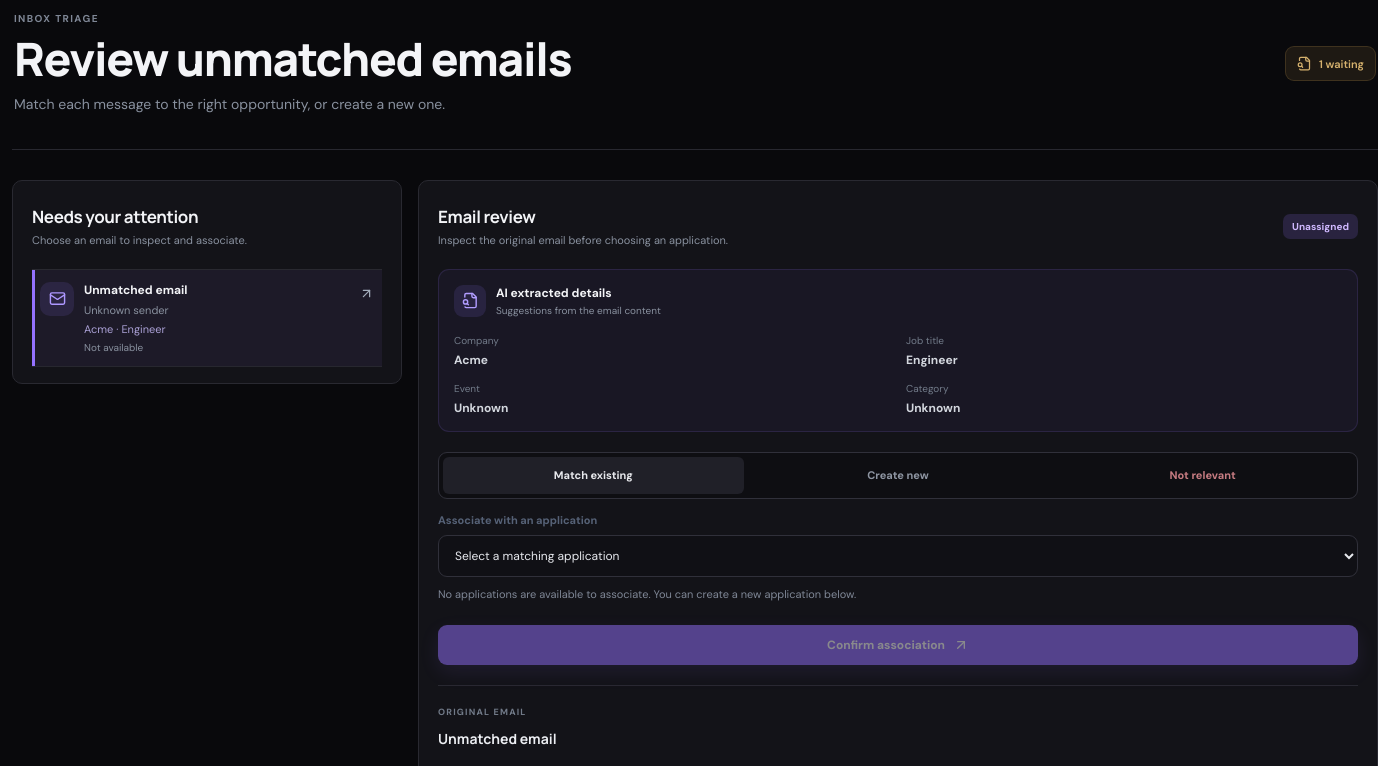
Test: review actions and data refresh › creates an application with corrected details and opens its timeline
The width and height of the screenshot is (1378, 766).
Expected: the button "Unmatched email Unknown sender Acme · Engineer Not available" is shown, x1=32 y1=270 x2=382 y2=367
Click the tab "Create new" at (898, 475), box x1=748 y1=457 x2=1048 y2=494
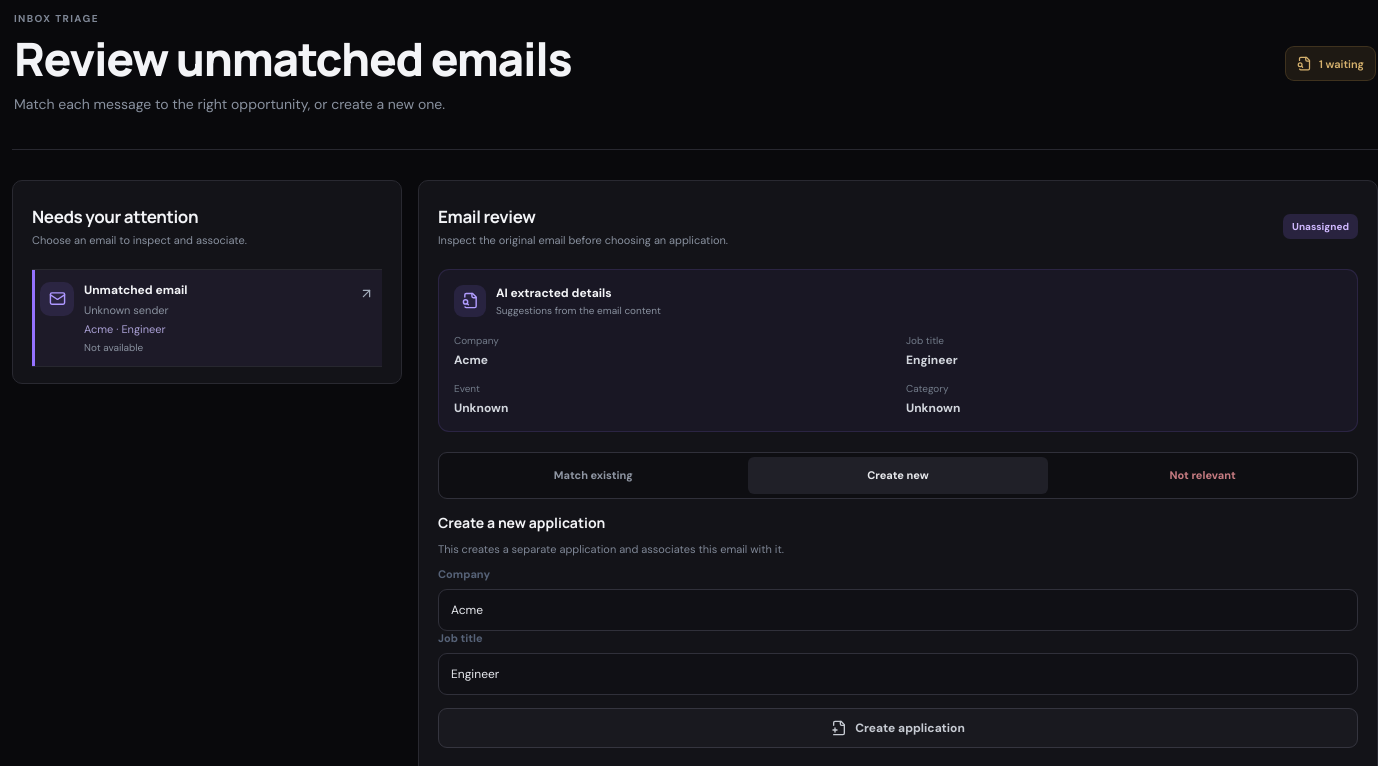
Replace the text in the field labelled "Company" with "New Acme" at (898, 610), box x1=438 y1=589 x2=1358 y2=631
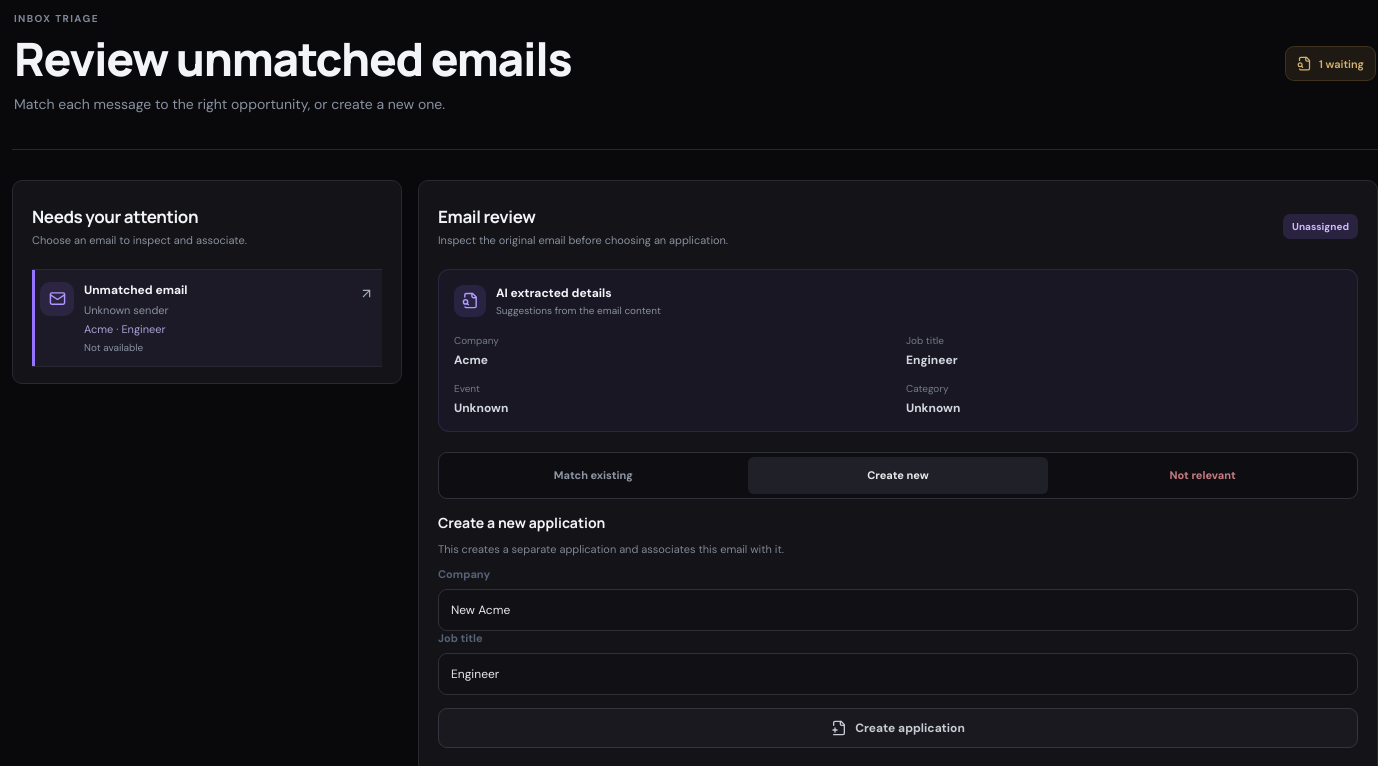
Click the button "Create application" at (898, 728), box x1=438 y1=708 x2=1358 y2=748
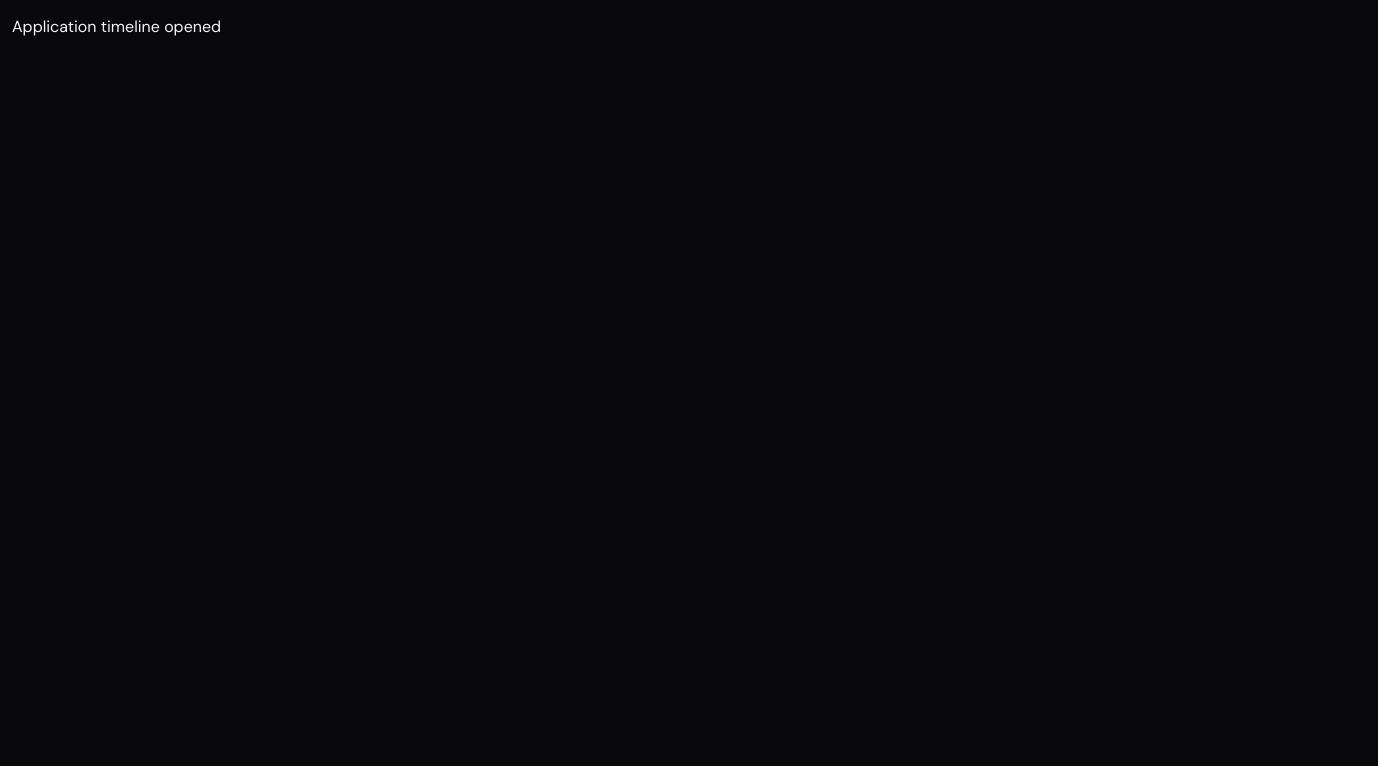
Expected: the text "Application timeline opened" is shown, x1=12 y1=16 x2=221 y2=37
